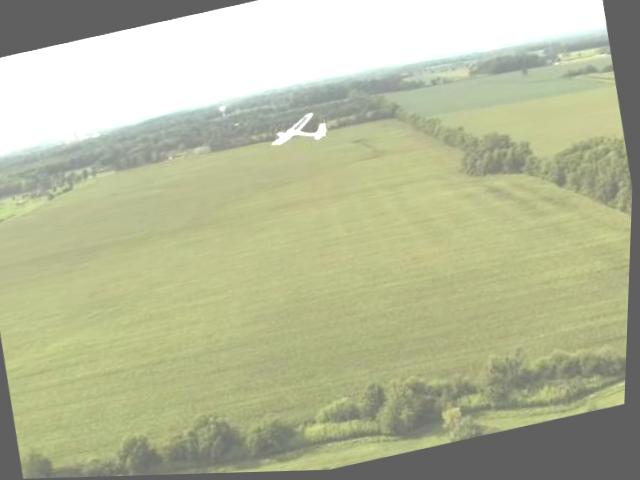uav: (255, 100, 337, 166)
